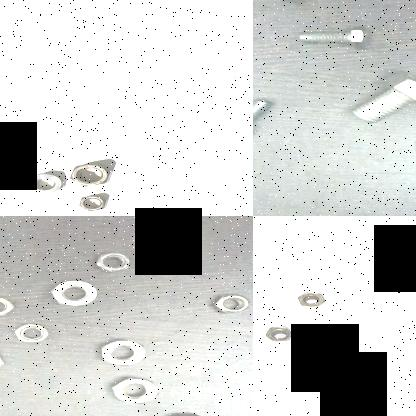Bolts: (345, 68, 416, 124), (296, 20, 374, 55), (253, 93, 276, 144)
NUTS: (94, 336, 154, 366), (48, 278, 102, 310), (107, 376, 160, 406), (89, 248, 132, 278), (68, 161, 112, 189), (7, 322, 51, 345), (24, 172, 66, 196), (209, 293, 252, 315), (76, 192, 112, 214), (261, 324, 297, 344), (294, 291, 330, 309), (0, 291, 18, 321)
